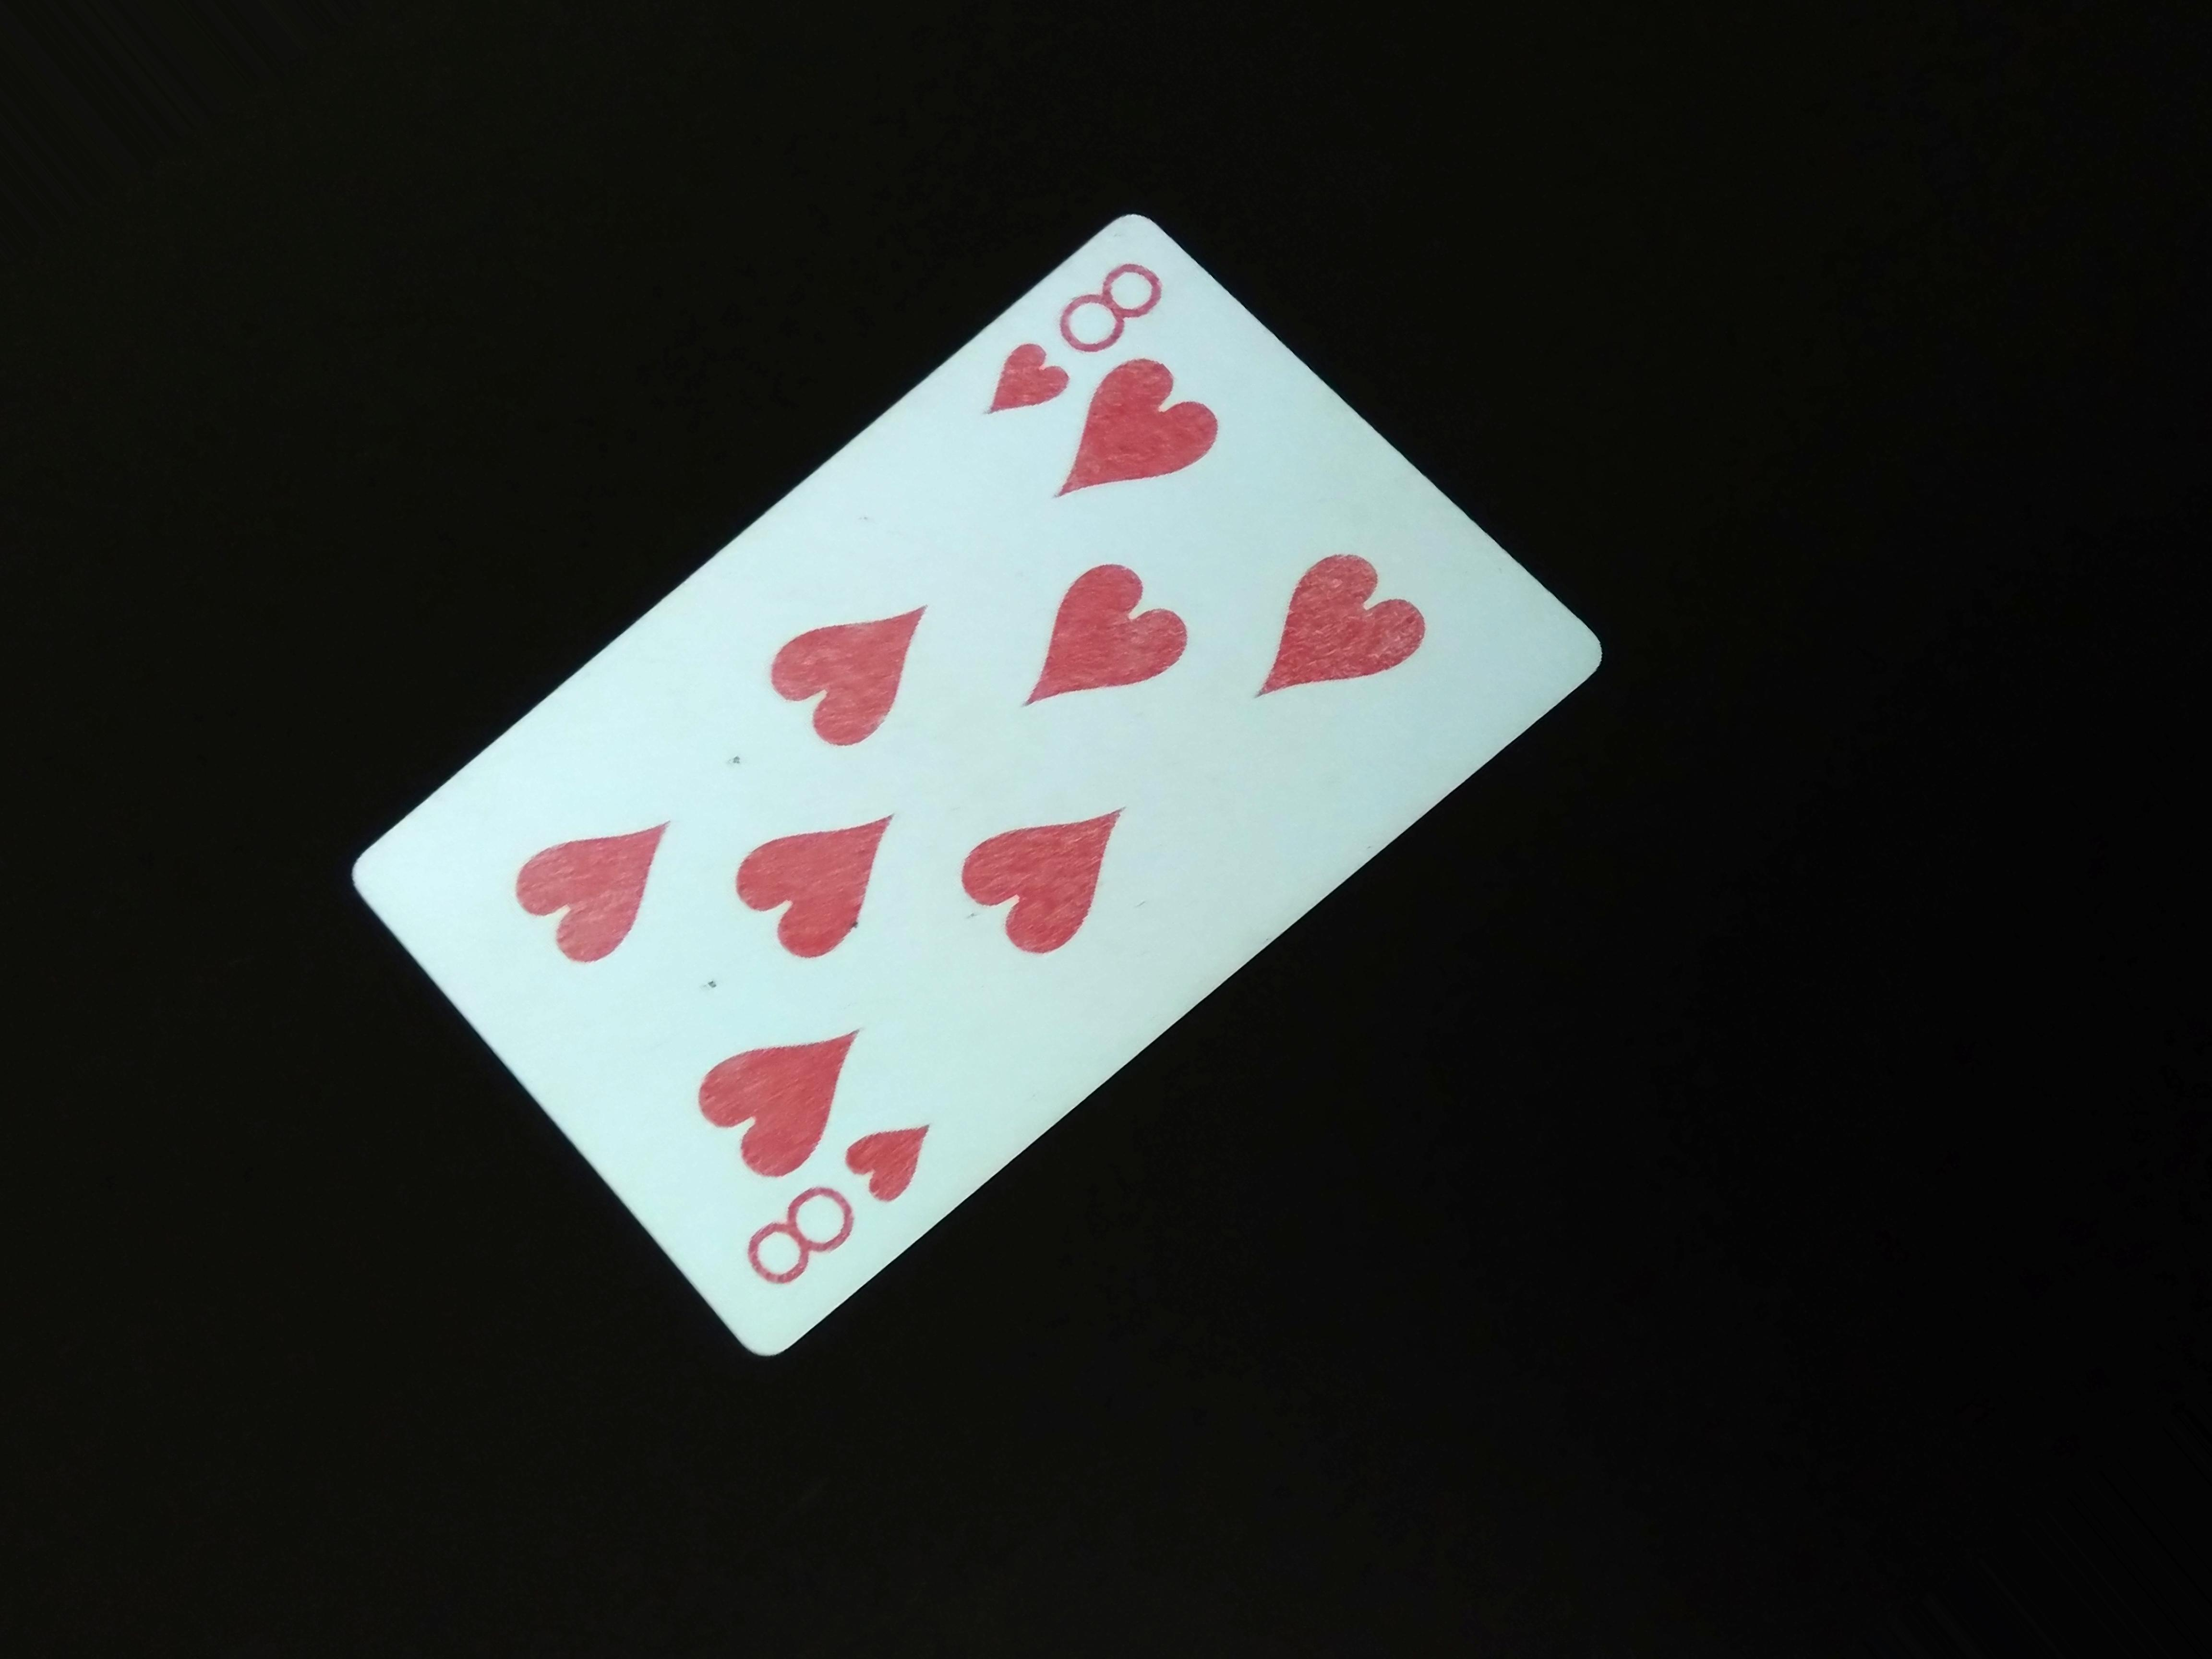8H: (986, 232, 1160, 441)
